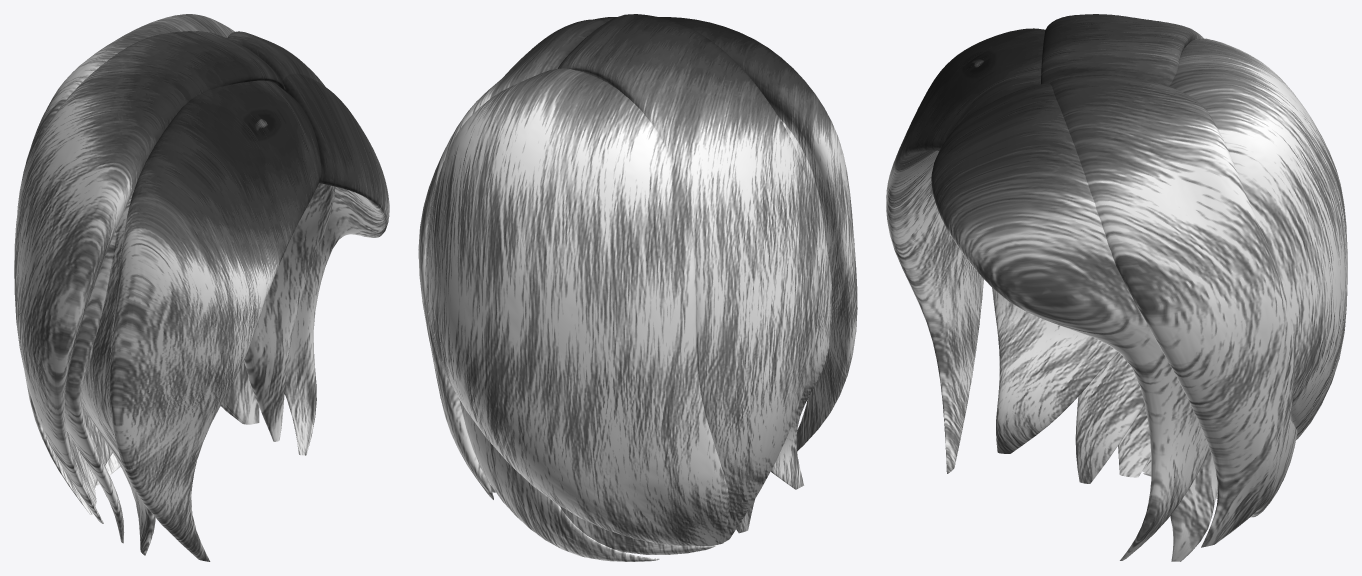
File: hair_sidedo_f_medium.glb
The picture shows the model from 3 angles, left to right: view 1: azimuth 30°, elevation 25°; view 2: azimuth 150°, elevation 25°; view 3: azimuth 270°, elevation 25°; orthographic projection. The views are drawn at different scales.
Parts seen in each view (by area): view 1: haircards; view 2: haircards; view 3: haircards.
Part boxes in pixels (x1=…): haircards: x1=14, y1=14, x2=389, y2=561; haircards: x1=418, y1=14, x2=857, y2=561; haircards: x1=886, y1=14, x2=1347, y2=561.
Bounding box in the file's own units: 0.2022 × 0.2773 × 0.231.
1 material, 1 textured.
